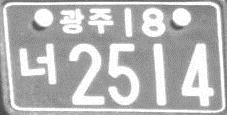1: (150, 41, 169, 108), (122, 6, 134, 38)
2: (67, 42, 107, 107)
4: (179, 41, 215, 107)
5: (106, 42, 139, 107)
8: (140, 7, 167, 38)
광주_O: (58, 7, 114, 34)
너: (17, 41, 57, 88)
